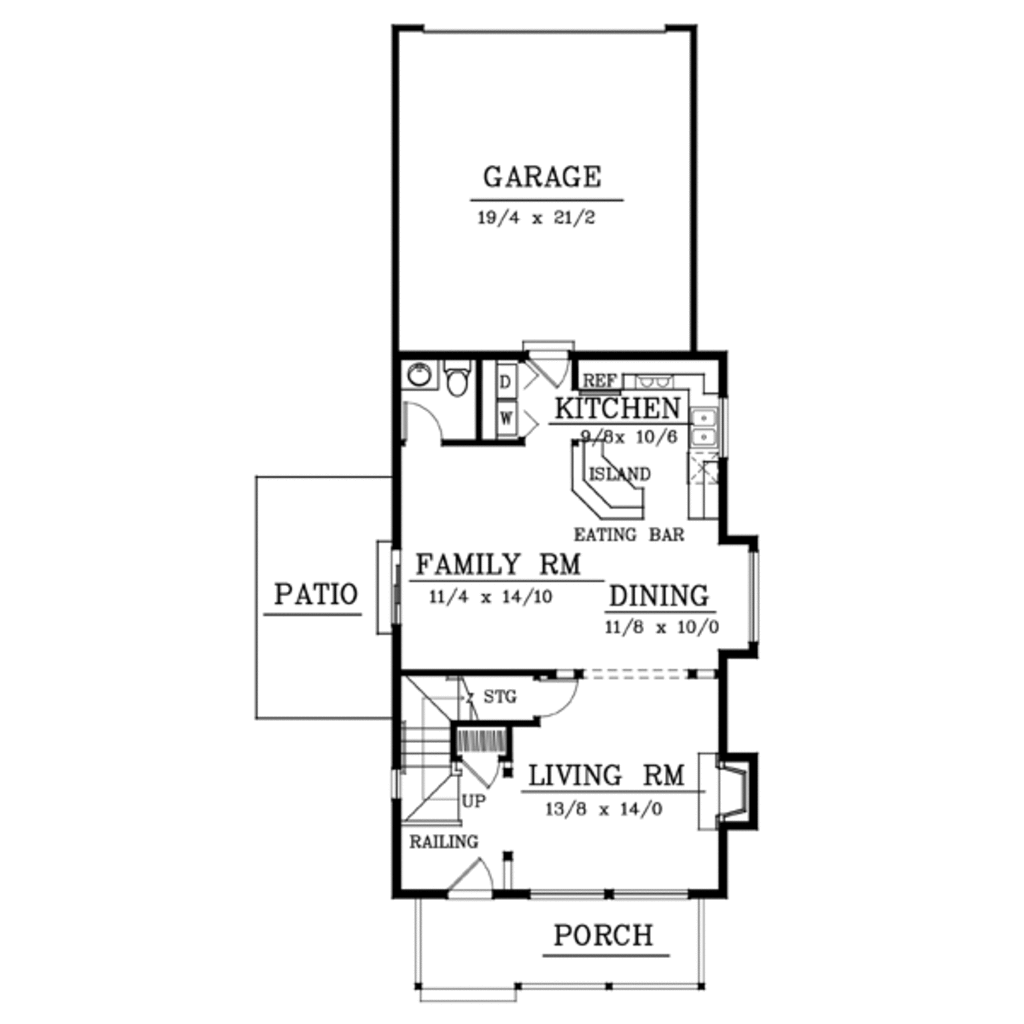door: (518, 341, 583, 394), (533, 664, 585, 725), (449, 737, 506, 791), (397, 400, 449, 458), (443, 857, 499, 902)
large_sink: (438, 361, 478, 404)
small_sink: (396, 353, 446, 399)
stairs: (399, 679, 461, 817)
twin_sink: (687, 397, 719, 463)
window: (607, 878, 695, 912), (527, 884, 614, 910)
